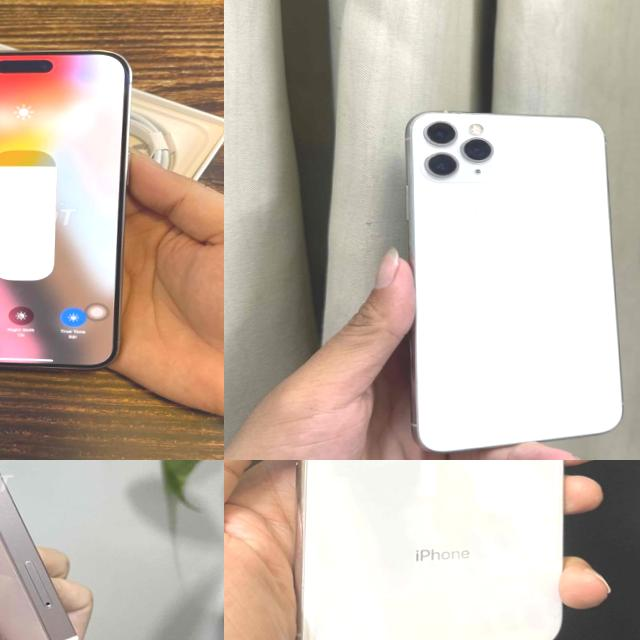gen_11: (398, 103, 634, 460)
gen_12_13: (0, 460, 90, 640)
gen_15: (0, 43, 135, 375)
gen_x_xs: (296, 460, 562, 640)
